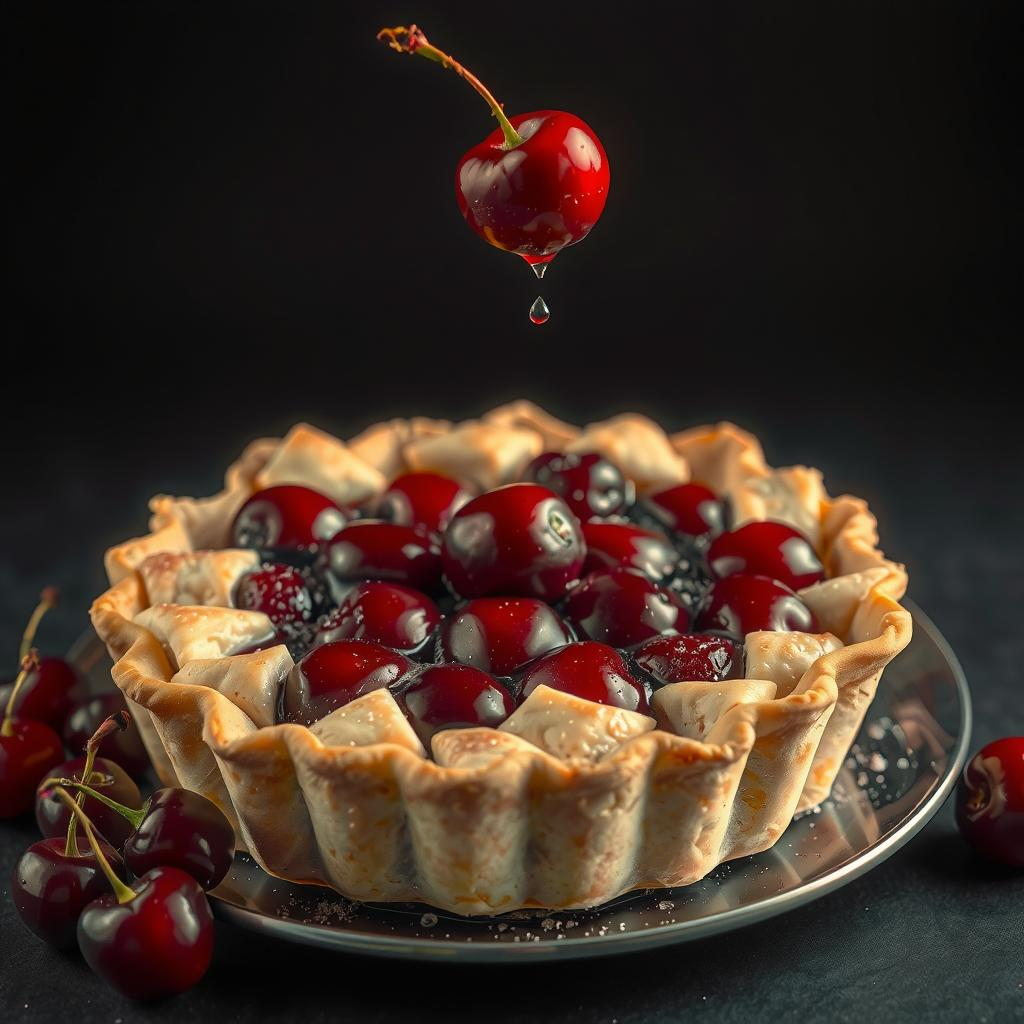pie: (83, 407, 933, 924)
